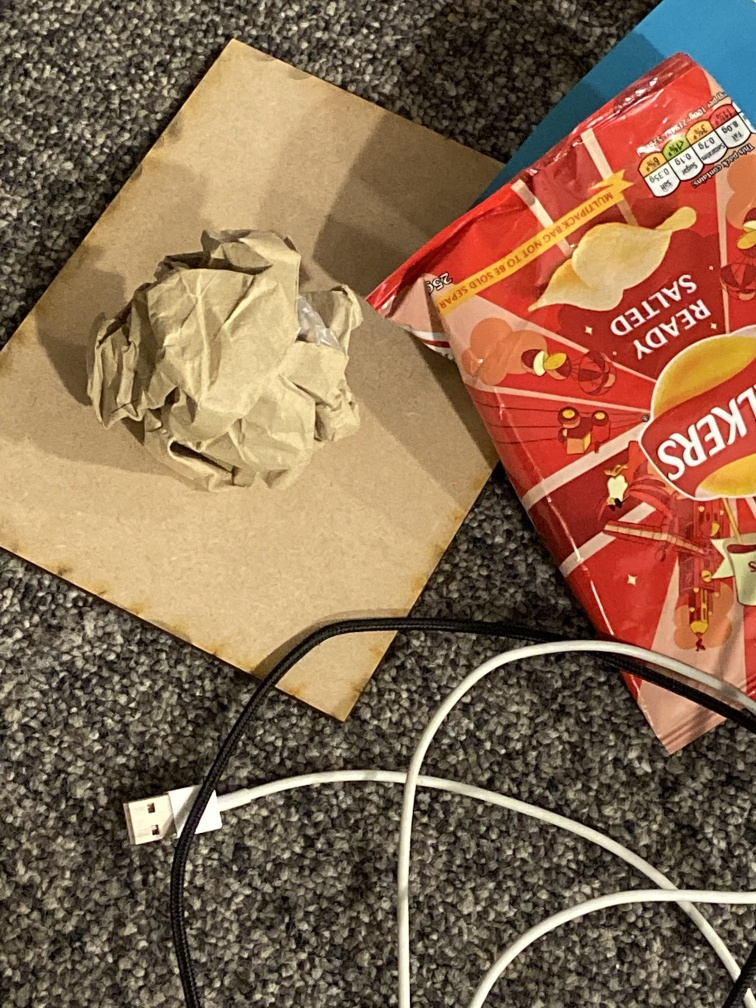paper_brown: (84, 220, 371, 502)
